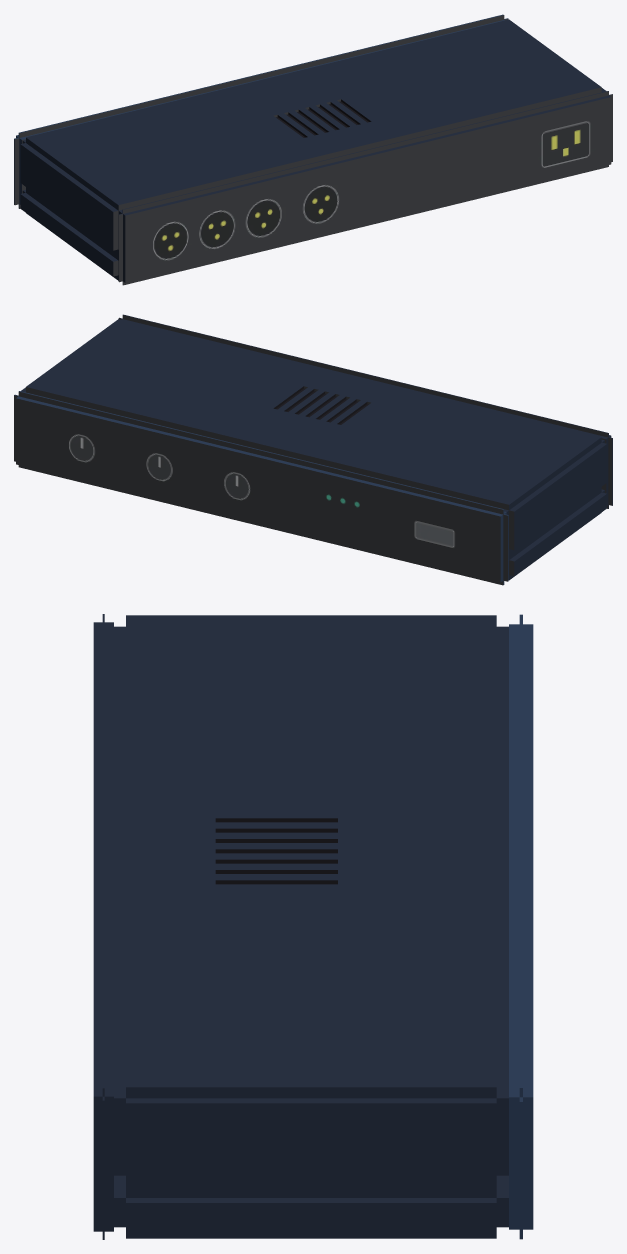
File: sonifex-rb-mm1.glb
3 renders of one model, top to bottom at view 1: azimuth 30°, elevation 25°; view 2: azimuth 150°, elevation 25°; view 3: azimuth 270°, elevation 25°, orthographic. The views are drawn at different scales.
Parts seen in each view (by area): view 1: sonifex-rb-mm1-body; view 2: sonifex-rb-mm1-body; view 3: sonifex-rb-mm1-body.
Part boxes in pixels (<box>): sonifex-rb-mm1-body: <box>14,14,612,285</box>; sonifex-rb-mm1-body: <box>14,314,612,585</box>; sonifex-rb-mm1-body: <box>93,614,533,1239</box>.
Size of the model in its own units: 0.28 by 0.043 by 0.108.
Materials: 1 (1 with a texture image).
